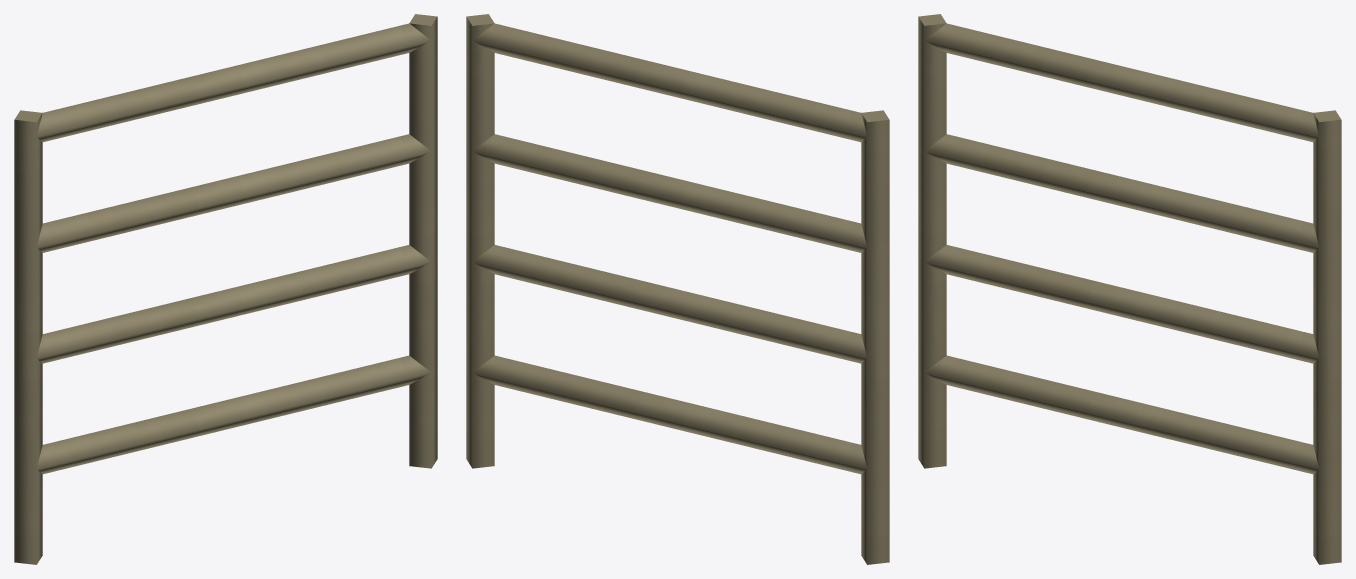
Rendered from lepus_ladder_srf_1_2.obj.
The picture shows the model from 3 angles, left to right: view 1: azimuth 30°, elevation 25°; view 2: azimuth 150°, elevation 25°; view 3: azimuth 330°, elevation 25°; orthographic projection.
Visible parts, largest first — view 1: lepus_ladder_srf_1_2; view 2: lepus_ladder_srf_1_2; view 3: lepus_ladder_srf_1_2.
Boxes of the visible parts, <box> form: lepus_ladder_srf_1_2: <box>14,14,437,564</box>; lepus_ladder_srf_1_2: <box>466,14,889,564</box>; lepus_ladder_srf_1_2: <box>918,14,1341,564</box>.
Bounding box in the file's own units: 0.375 × 0.375 × 0.025.
